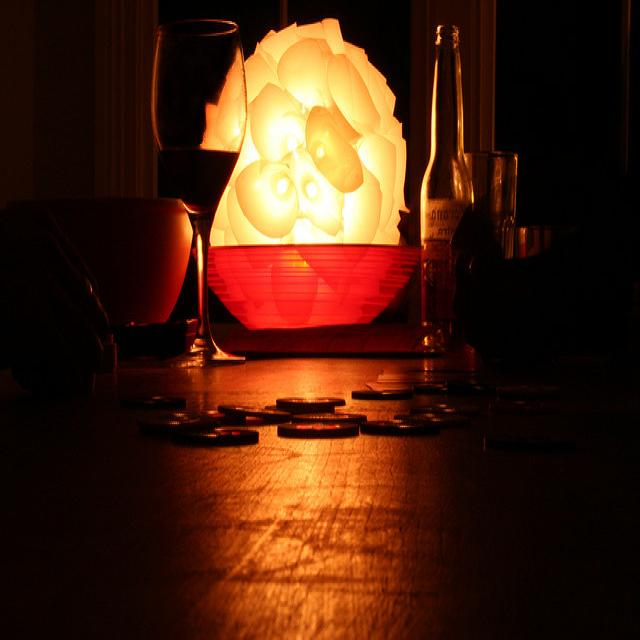Bottle: (407, 13, 475, 366)
Cup: (140, 14, 262, 374), (464, 135, 534, 265), (502, 208, 552, 300)
